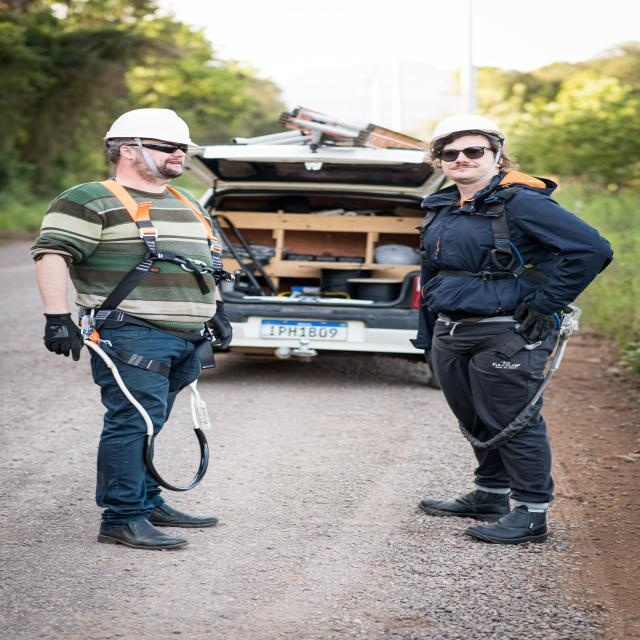Arnes_seguridad: (75, 172, 219, 394), (411, 181, 563, 370)
